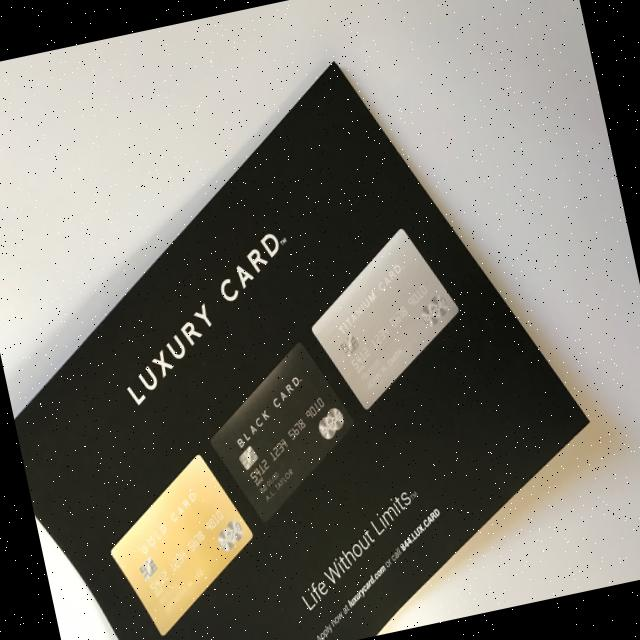paper: (0, 23, 623, 640)
